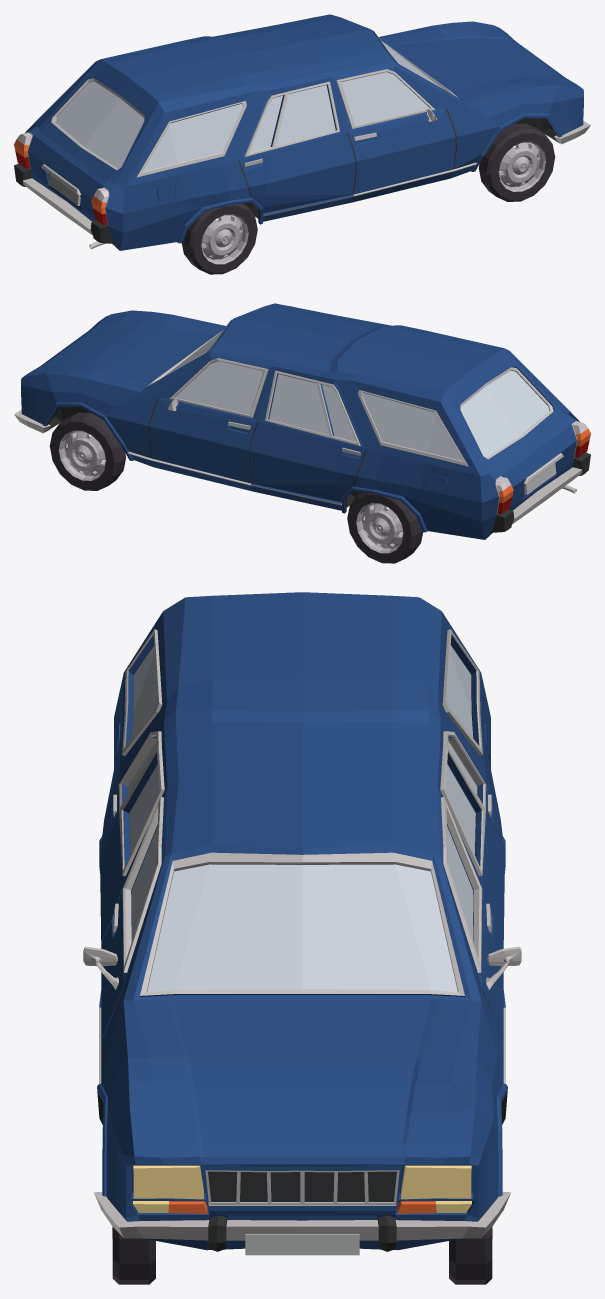
File: peugeot-504.glb
3 renders of one model, top to bottom at view 1: azimuth 30°, elevation 25°; view 2: azimuth 150°, elevation 25°; view 3: azimuth 270°, elevation 25°, orthographic. The views are drawn at different scales.
Parts seen in each view (by area): view 1: Object_2; view 2: Object_2; view 3: Object_2.
Part boxes in pixels (box(x1,y1,x2,y2)): Object_2: box(14, 14, 590, 274); Object_2: box(14, 303, 590, 563); Object_2: box(83, 592, 521, 1284).
Bounding box in the file's own units: 12.52 × 4.23 × 4.83.
Materials: 1 (1 with a texture image).
